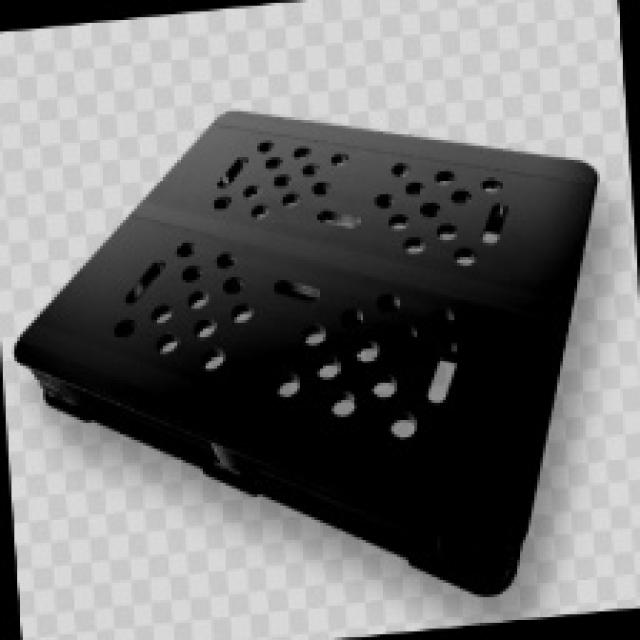igps: (9, 104, 605, 602)
